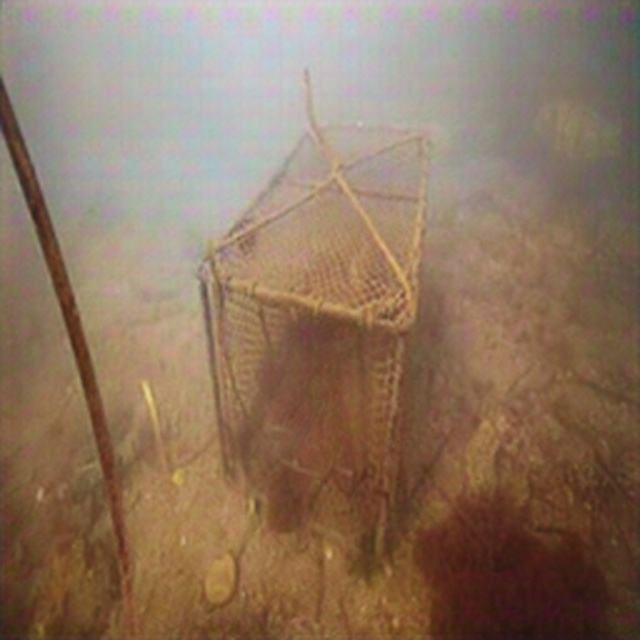mine: (191, 115, 434, 575)
